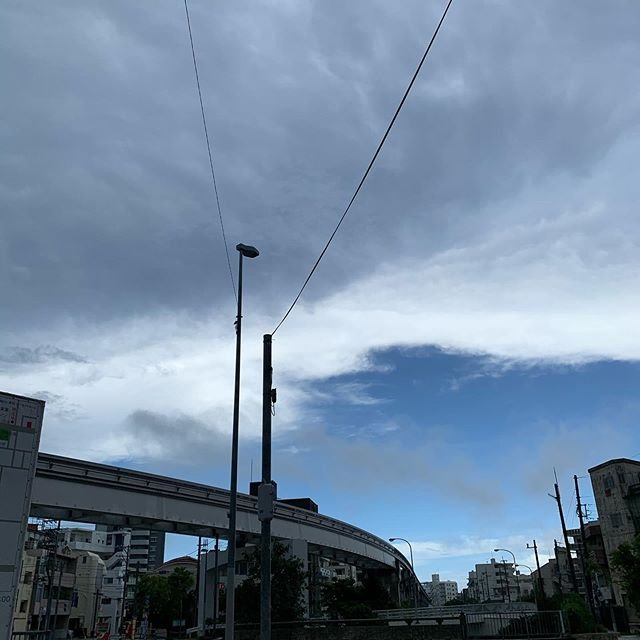bridge: (1, 394, 418, 598)
building: (566, 474, 640, 640), (24, 540, 111, 640), (458, 557, 523, 623)
sky: (1, 1, 640, 477)
